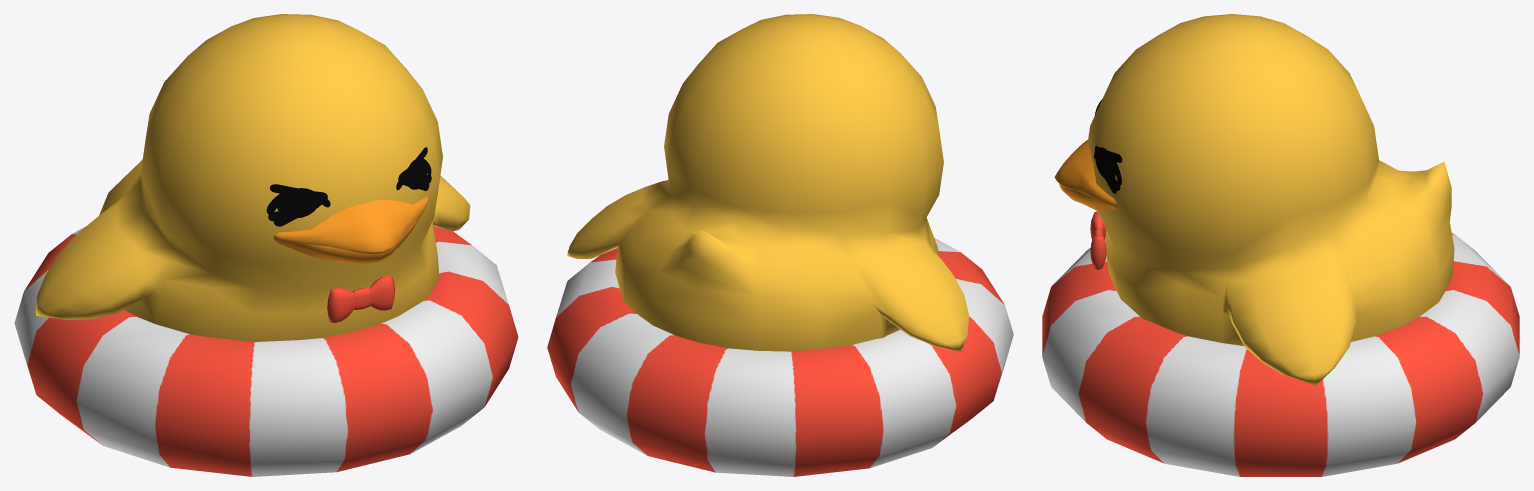
File: duck.glb
3 views of the same model, side by side, from view 1: azimuth 30°, elevation 25°; view 2: azimuth 150°, elevation 25°; view 3: azimuth 270°, elevation 25° (orthographic). The views are drawn at different scales.
Visible parts, largest first — view 1: Body, Ring, Beak, Ribbon, Face01, Face02, Face04; view 2: Body, Ring; view 3: Body, Ring, Beak, Ribbon.
Boxes of the visible parts, x1=… form: Body: x1=36, y1=14, x2=470, y2=341; Ring: x1=14, y1=226, x2=518, y2=476; Beak: x1=273, y1=196, x2=428, y2=264; Ribbon: x1=327, y1=275, x2=394, y2=323; Face01: x1=277, y1=159, x2=427, y2=218; Face02: x1=269, y1=147, x2=429, y2=226; Face04: x1=266, y1=158, x2=431, y2=214; Body: x1=567, y1=14, x2=969, y2=351; Ring: x1=547, y1=238, x2=1013, y2=476; Body: x1=1087, y1=14, x2=1454, y2=385; Ring: x1=1042, y1=233, x2=1519, y2=476; Beak: x1=1054, y1=140, x2=1117, y2=211; Ribbon: x1=1090, y1=211, x2=1106, y2=270.
Bounding box in the file's own units: 1.9 × 1.63 × 1.9.
1 material, 1 textured.
